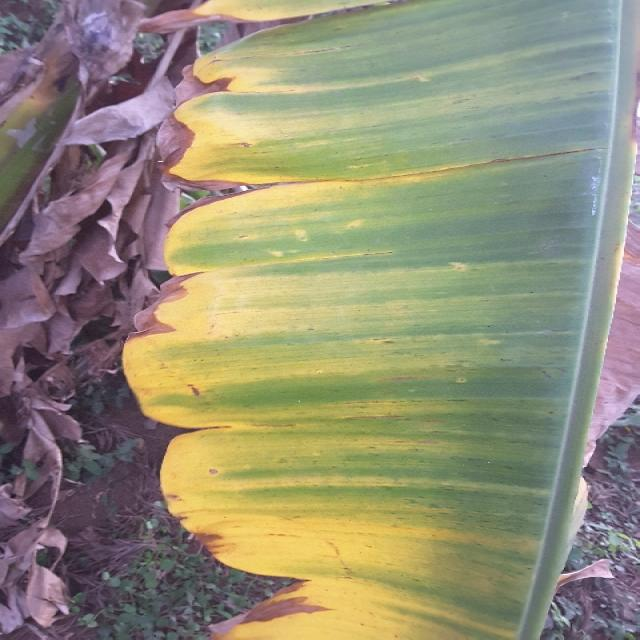Cordana: (80, 0, 593, 640)
